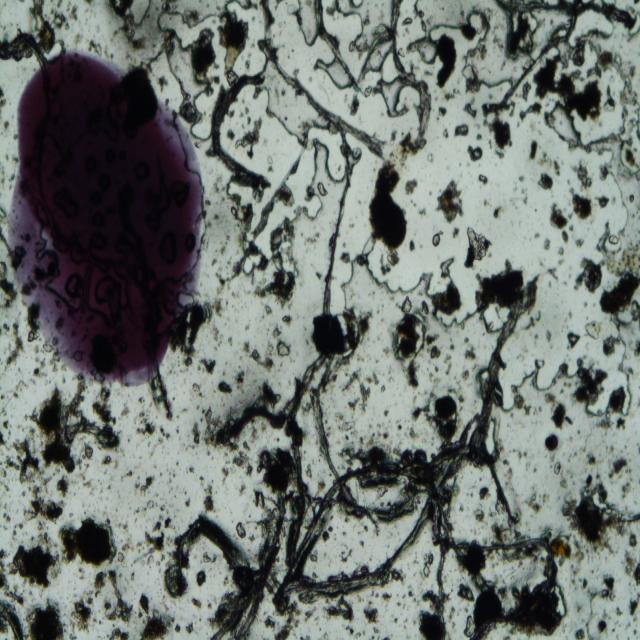Air bubble: (224, 0, 275, 83), (189, 72, 221, 142), (568, 6, 616, 49), (479, 299, 511, 342), (376, 77, 408, 117), (296, 0, 320, 44), (482, 416, 500, 454), (129, 0, 152, 27), (241, 254, 263, 275), (440, 258, 454, 277), (432, 231, 442, 249)
Background material: (556, 470, 640, 550), (500, 554, 564, 638), (536, 57, 605, 125), (472, 258, 542, 322), (28, 385, 76, 474), (491, 0, 640, 28), (369, 158, 408, 250), (65, 387, 120, 452), (598, 239, 640, 318), (396, 295, 430, 388), (10, 531, 62, 591), (60, 516, 118, 566), (616, 56, 640, 173), (0, 18, 56, 68), (219, 10, 249, 89), (11, 431, 51, 488), (570, 30, 615, 80), (105, 0, 148, 52), (173, 301, 206, 366), (571, 356, 609, 408), (257, 448, 297, 496), (192, 26, 220, 94), (428, 388, 462, 444), (482, 102, 514, 160), (253, 264, 297, 305), (340, 438, 400, 468), (22, 484, 64, 526), (104, 569, 136, 624), (26, 598, 67, 640), (501, 15, 536, 62), (148, 365, 176, 423), (270, 216, 297, 270), (556, 532, 584, 584), (66, 592, 95, 640), (435, 178, 465, 224), (435, 32, 459, 89), (346, 370, 380, 410), (224, 176, 270, 205), (431, 276, 464, 316), (230, 192, 252, 250), (575, 255, 605, 297), (494, 508, 528, 544), (2, 320, 26, 371), (214, 257, 244, 297), (462, 226, 490, 268), (228, 440, 254, 484), (236, 117, 262, 161), (162, 562, 190, 601), (546, 392, 576, 428), (140, 609, 174, 640), (0, 599, 25, 640), (398, 133, 428, 167), (274, 602, 300, 640), (346, 304, 368, 348), (255, 378, 283, 409), (0, 261, 18, 309), (324, 594, 354, 622), (570, 186, 593, 222), (135, 398, 155, 439), (572, 157, 594, 190), (250, 343, 275, 372), (203, 408, 222, 446), (353, 234, 375, 266), (461, 62, 483, 94), (358, 428, 390, 450), (553, 459, 574, 492), (27, 0, 47, 34), (463, 614, 489, 640), (527, 485, 551, 513), (586, 587, 598, 640), (549, 201, 569, 231), (336, 411, 358, 438), (607, 455, 630, 480), (379, 249, 400, 276), (608, 383, 626, 414), (518, 102, 544, 123), (624, 550, 640, 584), (599, 575, 619, 602), (602, 83, 619, 114), (74, 444, 95, 469), (144, 531, 166, 554), (53, 476, 75, 499), (382, 328, 400, 356), (403, 357, 419, 388), (410, 402, 433, 423), (50, 8, 70, 32), (512, 391, 532, 414), (30, 356, 50, 379), (133, 474, 157, 493), (603, 332, 621, 357), (233, 370, 249, 398), (501, 457, 513, 494), (132, 499, 166, 512), (250, 421, 272, 441), (455, 581, 475, 602), (595, 607, 610, 635), (134, 547, 154, 568), (0, 548, 10, 590), (2, 585, 24, 604), (0, 455, 19, 477), (345, 90, 361, 116), (425, 332, 441, 358), (181, 100, 198, 124), (162, 27, 175, 58), (582, 321, 602, 341), (468, 40, 488, 60), (206, 300, 224, 322), (543, 431, 560, 453), (0, 420, 12, 451), (92, 570, 106, 596), (115, 540, 129, 566), (537, 172, 554, 193), (49, 353, 66, 374), (202, 483, 214, 512), (198, 356, 215, 376), (526, 309, 542, 330), (28, 315, 40, 343), (422, 550, 434, 577), (137, 592, 149, 619), (452, 123, 472, 139), (252, 488, 266, 510), (276, 340, 294, 357), (101, 453, 119, 470), (12, 379, 28, 398), (465, 337, 477, 362), (460, 24, 478, 40), (180, 9, 198, 25), (363, 606, 379, 624), (628, 592, 640, 616), (566, 329, 580, 349), (190, 379, 204, 399), (80, 471, 94, 491), (240, 104, 252, 127), (521, 80, 534, 101), (587, 449, 603, 466), (306, 232, 322, 249), (87, 40, 102, 58), (448, 607, 457, 637), (232, 520, 246, 539), (619, 481, 633, 500), (215, 381, 234, 395), (540, 148, 552, 170), (210, 326, 222, 348), (67, 2, 80, 22), (468, 146, 484, 162), (155, 75, 169, 93), (158, 425, 172, 443), (391, 566, 405, 584), (263, 612, 277, 630), (465, 98, 477, 118), (572, 625, 588, 640), (110, 627, 128, 640), (474, 507, 486, 526), (322, 525, 334, 544), (192, 421, 201, 446), (116, 520, 130, 536), (614, 415, 627, 432), (219, 237, 231, 255), (491, 202, 503, 220), (442, 88, 460, 100), (477, 486, 491, 501), (372, 627, 388, 640), (381, 588, 393, 605), (405, 178, 417, 195), (631, 335, 640, 357), (596, 194, 610, 208), (339, 548, 353, 562), (151, 518, 164, 533), (201, 552, 217, 564), (408, 424, 420, 440), (315, 478, 325, 497), (548, 266, 559, 283), (120, 470, 134, 483), (341, 250, 354, 264), (241, 339, 251, 357), (197, 568, 207, 586), (258, 254, 269, 270), (0, 161, 7, 186), (305, 185, 315, 202), (608, 232, 620, 246), (444, 353, 452, 374), (163, 516, 175, 530), (280, 314, 292, 327), (72, 32, 84, 45), (0, 86, 6, 112), (436, 107, 448, 120), (220, 465, 228, 484), (480, 171, 490, 186), (121, 404, 131, 419), (156, 552, 166, 567), (310, 548, 320, 563), (406, 238, 416, 253), (530, 139, 537, 160), (562, 228, 570, 246), (166, 531, 174, 549), (273, 323, 281, 341), (8, 173, 16, 191), (317, 182, 328, 195), (417, 206, 427, 220), (462, 370, 471, 385), (574, 236, 585, 248), (190, 597, 202, 608), (185, 621, 195, 634), (578, 576, 588, 589), (13, 523, 23, 536), (306, 462, 313, 479), (0, 480, 9, 493), (345, 625, 354, 638), (542, 238, 550, 252), (226, 130, 236, 141), (237, 484, 246, 496), (226, 108, 235, 120), (263, 304, 272, 316), (305, 609, 313, 622), (553, 161, 561, 174), (3, 120, 11, 133), (452, 225, 460, 238), (2, 512, 12, 522), (84, 0, 97, 7), (78, 567, 84, 582), (0, 406, 8, 416), (617, 605, 623, 618), (188, 464, 195, 475), (206, 601, 214, 610), (299, 634, 311, 640), (380, 383, 386, 395), (402, 17, 412, 24), (206, 196, 212, 207), (316, 270, 322, 281), (174, 623, 180, 634), (546, 329, 551, 342), (214, 212, 222, 220), (185, 498, 191, 508), (211, 256, 217, 266), (34, 341, 38, 356), (397, 422, 403, 432), (228, 336, 234, 346), (407, 589, 413, 599), (11, 156, 19, 163), (130, 572, 135, 583), (363, 524, 369, 533), (383, 408, 389, 417), (56, 0, 61, 9), (0, 394, 6, 401), (13, 133, 17, 140), (5, 154, 9, 160)
Cellulose filter fibre: (273, 464, 450, 610), (261, 0, 385, 154), (286, 496, 434, 601), (438, 301, 524, 475), (175, 514, 253, 630), (490, 15, 576, 112), (236, 490, 288, 640), (211, 73, 267, 196), (244, 147, 306, 258), (310, 358, 356, 505), (388, 0, 434, 138), (451, 538, 559, 596), (323, 127, 353, 314), (314, 0, 362, 94), (212, 390, 292, 444), (435, 542, 449, 628)
Diatom: (475, 590, 503, 626)
Fragment: (310, 313, 348, 357)
Pen: (6, 49, 209, 392)
